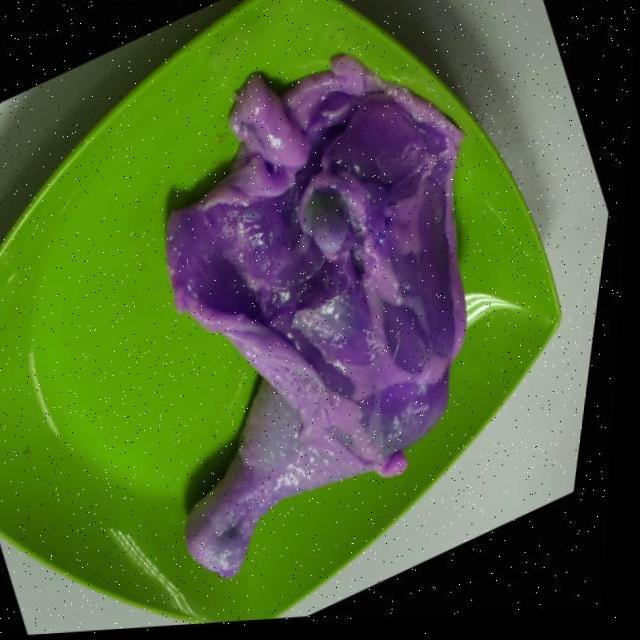quater: (158, 52, 484, 584)
